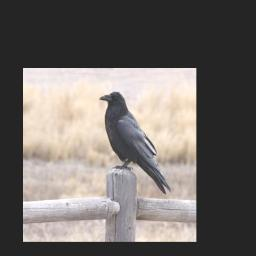Crow: (98, 90, 172, 196)
